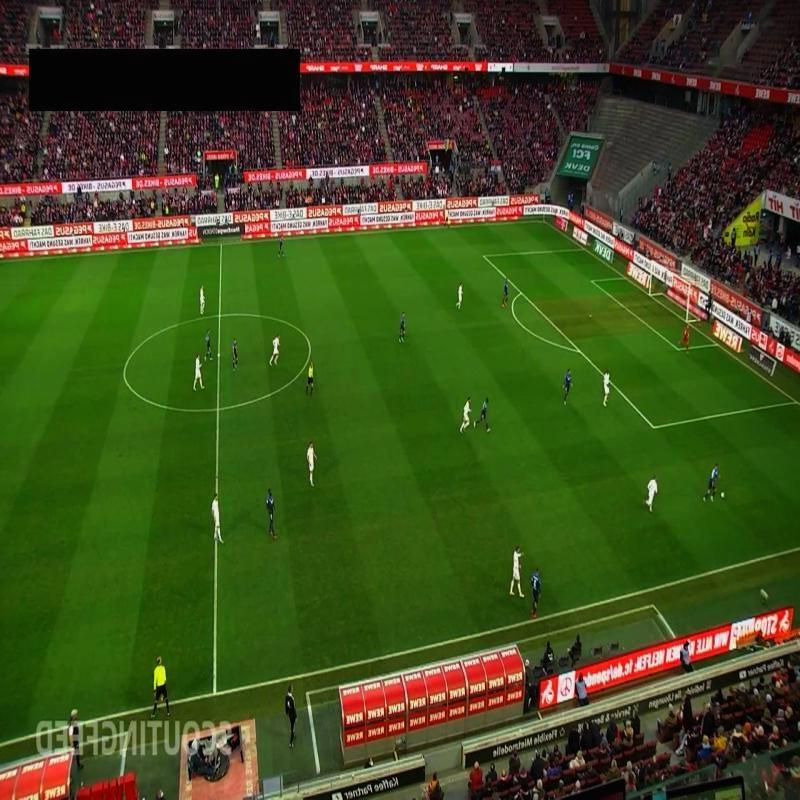1: (536, 214, 550, 228)
10: (514, 284, 528, 298)
11: (573, 342, 587, 356)
12: (647, 420, 661, 435)
13: (214, 237, 228, 250)
14: (212, 309, 226, 323)
15: (211, 402, 225, 416)
16: (208, 687, 222, 701)
2: (578, 242, 592, 255)
3: (619, 271, 634, 285)
4: (710, 336, 724, 350)
5: (791, 394, 800, 410)
7: (585, 273, 599, 287)
8: (671, 340, 685, 354)
9: (478, 248, 492, 262)
c: (119, 362, 133, 376), (304, 338, 318, 352)
